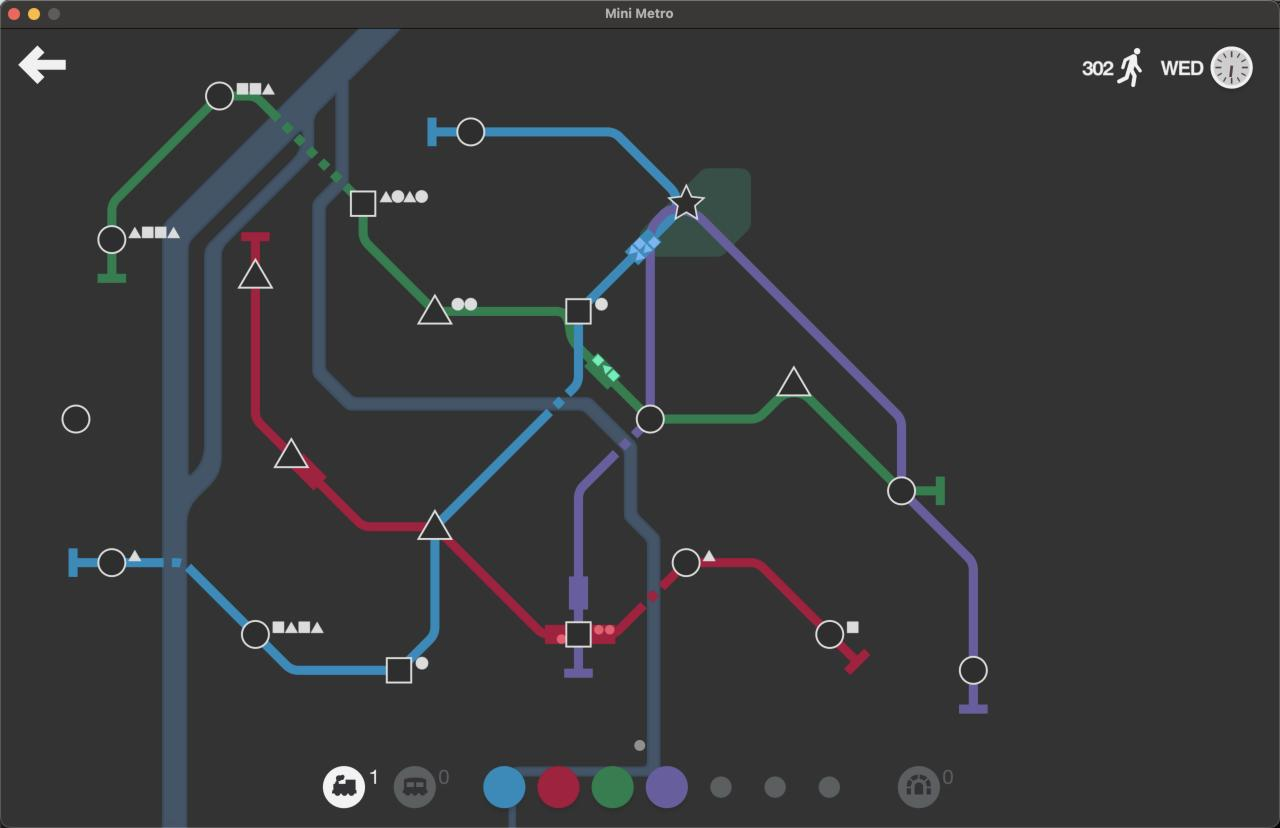CIRCLE: (201, 79, 238, 113), (97, 224, 128, 255), (671, 547, 702, 578), (635, 403, 665, 435), (958, 654, 988, 686), (814, 619, 844, 650), (240, 619, 270, 649), (61, 404, 91, 434), (97, 547, 126, 578), (887, 475, 916, 506), (456, 116, 485, 146)
SQUARE: (348, 189, 377, 218), (565, 620, 593, 649), (568, 296, 593, 328), (385, 656, 413, 684)
STAR: (671, 182, 706, 220)
TRIANGLE: (236, 252, 273, 294), (415, 292, 454, 327), (272, 436, 309, 470), (415, 509, 453, 541), (777, 365, 811, 398)
